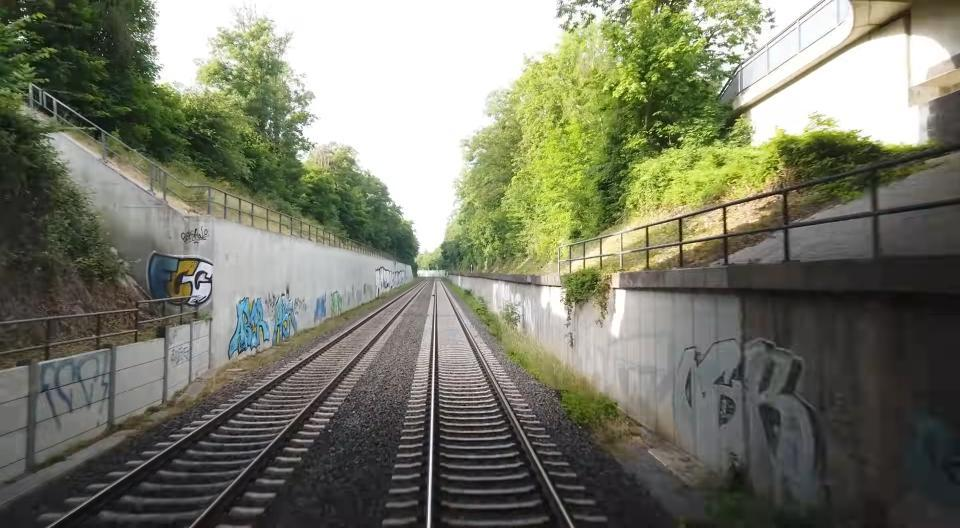Plant: (452, 287, 628, 440)
